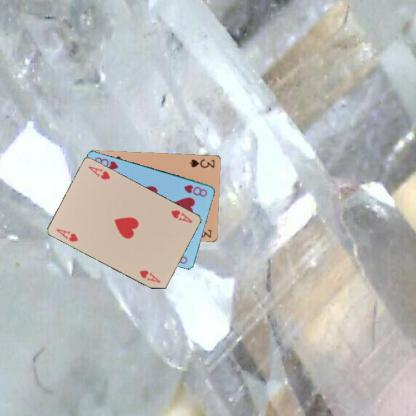3s: (187, 156, 216, 169)
8h: (182, 182, 209, 198)
Ah: (53, 226, 80, 243), (168, 207, 194, 224)
